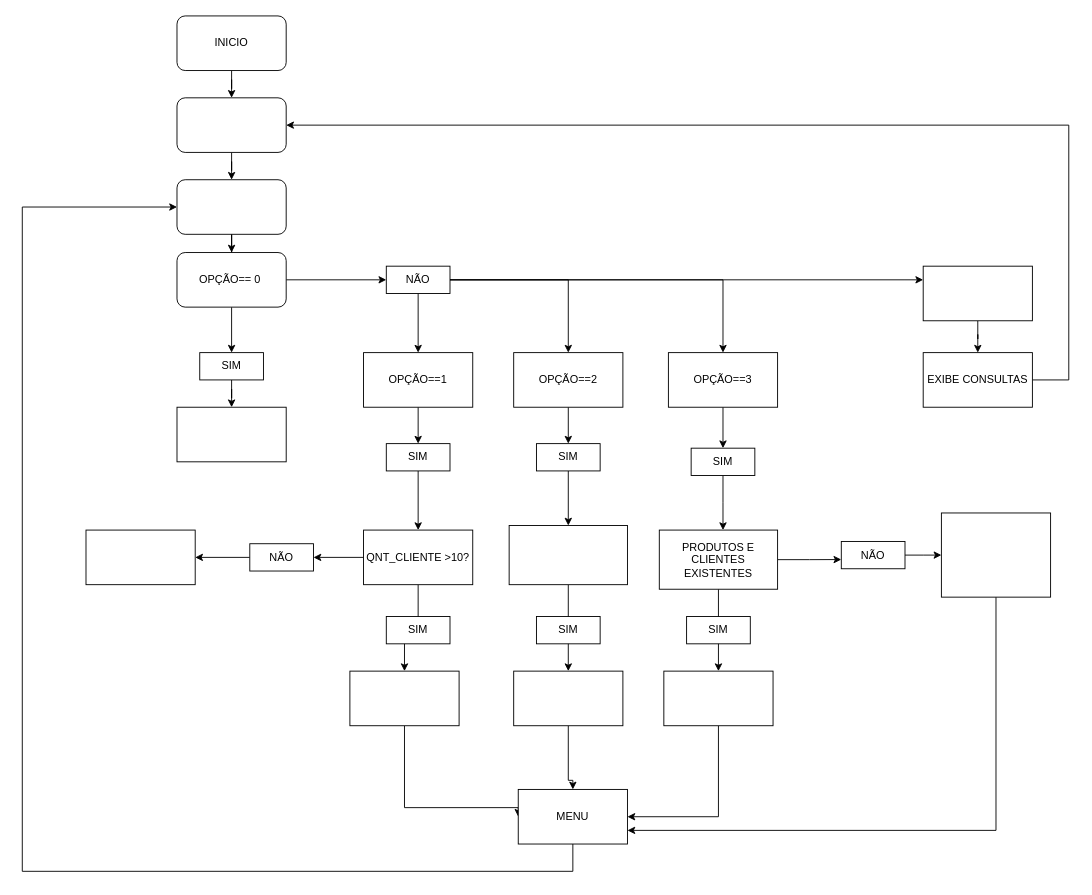
The diagram is 1092 pixels wide and 895 high, and some of its shapes have lost their labels. Here are the shapes that lost their labels. From the top down, the box of each, then its label:
(176, 97, 286, 152): EXIBIR MENU
(176, 179, 286, 234): LER OPÇÃO
(922, 265, 1032, 321): OPÇÕES 4,6
(176, 406, 286, 462): FIM
(85, 529, 195, 585): LIMITE!
(508, 525, 627, 585): QNT_PRODUTO >10?
(940, 512, 1051, 597): MENSAGEM DE ERRO INEXISTENCIA DE CLIENTE OU PRODUTO
(349, 670, 459, 726): PREENCHER DADOS CLIENTES
(513, 670, 623, 726): PREENCHER DADOS PRODUTOS
(663, 670, 773, 726): SOMA PRODUTO E CIRA OS
